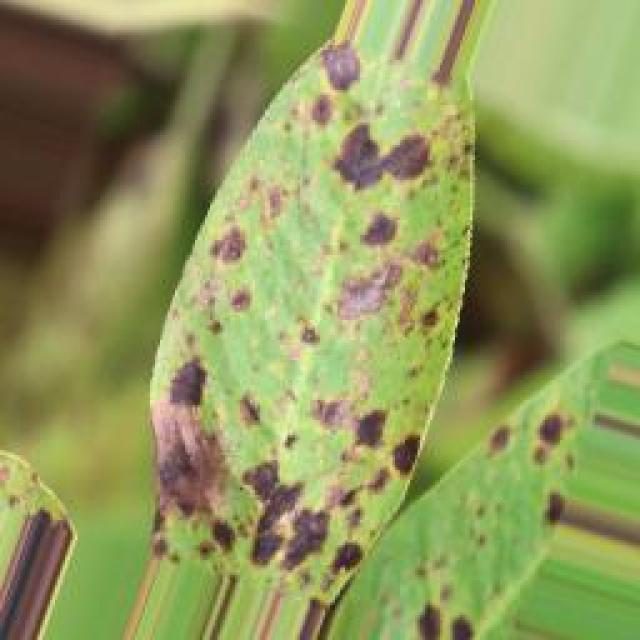Yellowish: (81, 48, 600, 634)
